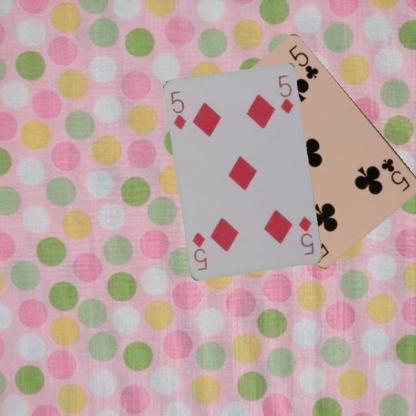5c: (378, 155, 412, 193)
5d: (168, 89, 188, 132), (297, 214, 316, 256)
